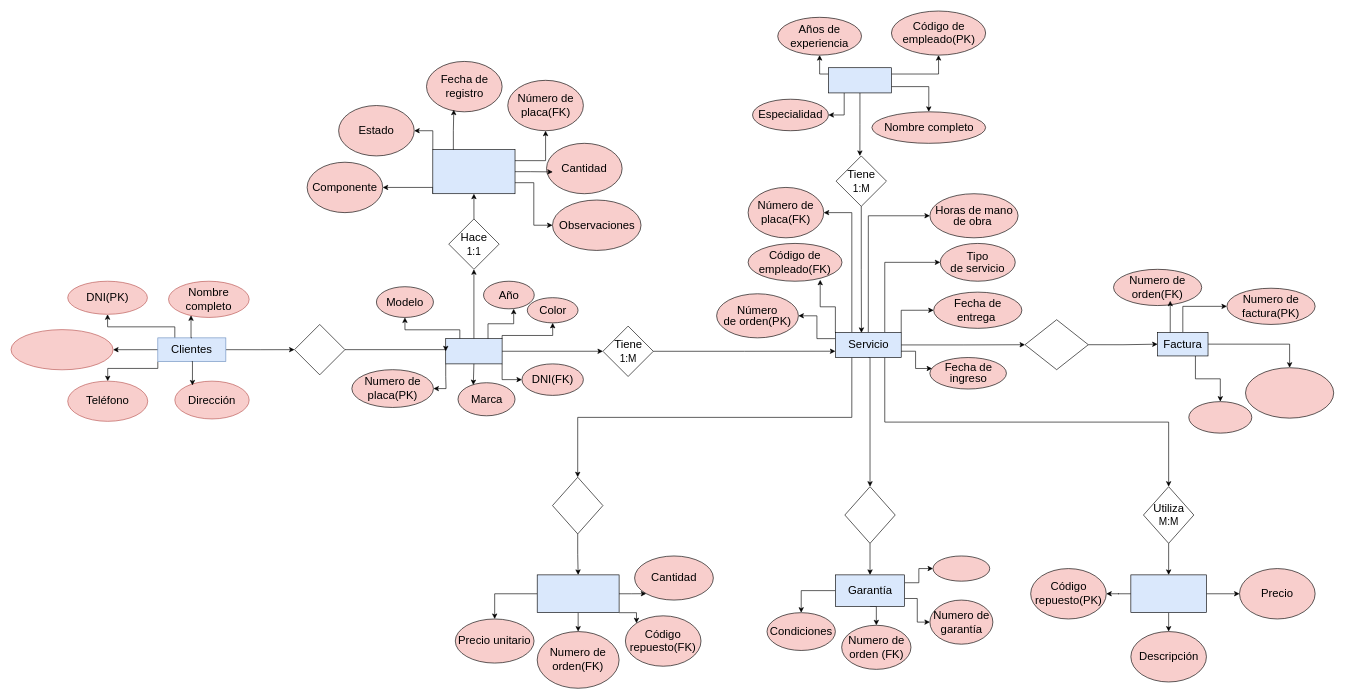
Some shapes in this 1345 by 699 pixel diagram are drawn without their labels. Each missing label, with the centre of its shape:
"Correo electronico" goes at point (61, 349).
"Costo total" goes at point (1220, 417).
"Detalle de los trabajos realizados" goes at point (1289, 392).
"Duración" goes at point (961, 568).
"Genera 1:1" goes at point (1056, 344).
"Inventario del vehículo" goes at point (473, 171).
"Mecánicos" goes at point (859, 80).
"puede 1:M" goes at point (319, 349).
"Repuestos utilizados" goes at point (1168, 593).
"Servicio y repuesto" goes at point (578, 593).
"Tiene 1:1" goes at point (869, 514).
"Tiene M:M" goes at point (577, 505).
"Vehículo" goes at point (473, 351).
